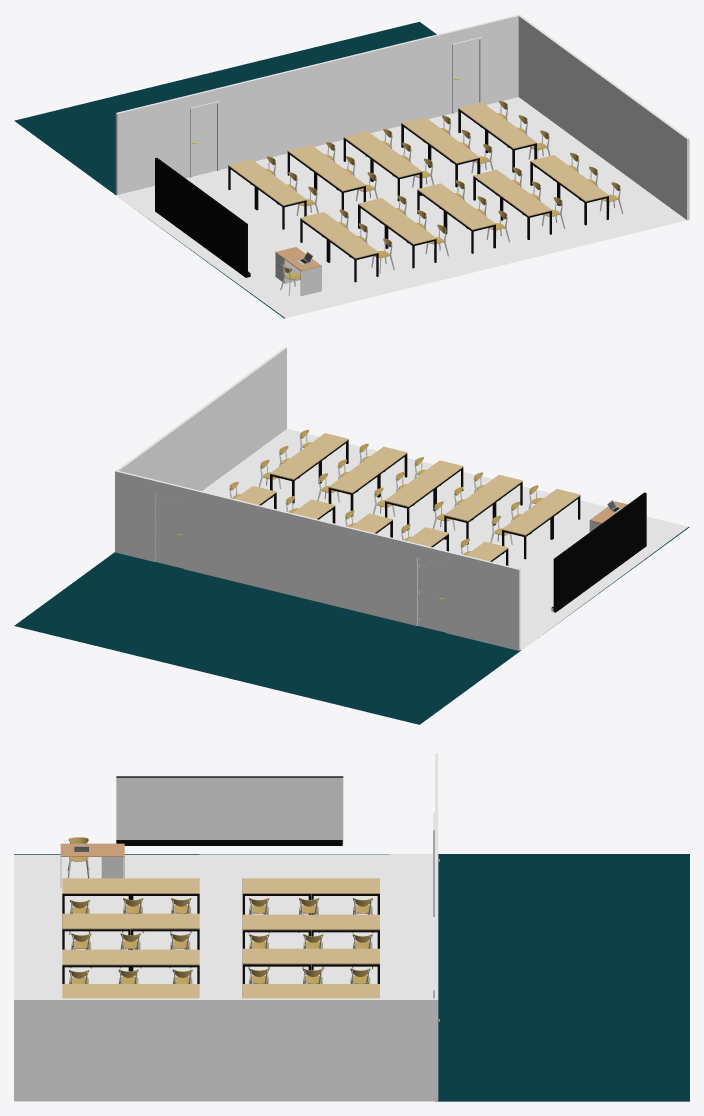
The model's file is ford-hall-inspiration.glb.
3 views of the same model, one above another, from view 1: azimuth 30°, elevation 25°; view 2: azimuth 150°, elevation 25°; view 3: azimuth 270°, elevation 25° (orthographic). The views are drawn at different scales.
Bounding box in the file's own units: 12.76 × 2.44 × 14.73.
